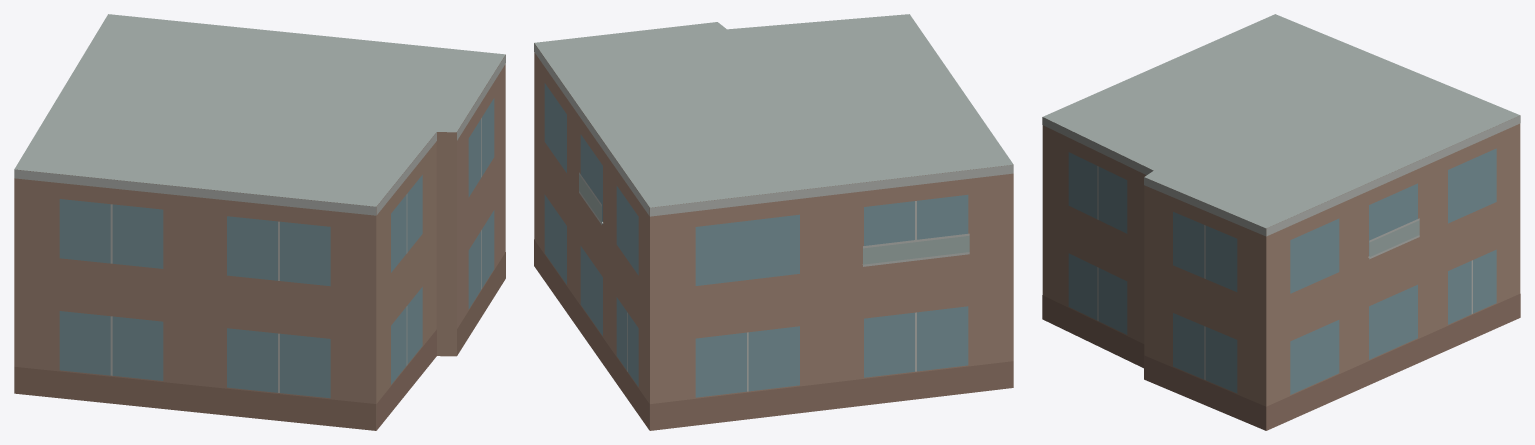
Rendered from survey-upis-32952241.glb.
3 renders of one model, left to right at view 1: azimuth 30°, elevation 25°; view 2: azimuth 150°, elevation 25°; view 3: azimuth 270°, elevation 25°, orthographic. The views are drawn at different scales.
Parts seen in each view (by area): view 1: survey-upis-32952241.tmp; view 2: survey-upis-32952241.tmp; view 3: survey-upis-32952241.tmp.
Boxes of the visible parts, bbox=[...] form: survey-upis-32952241.tmp: bbox=[14, 14, 505, 430]; survey-upis-32952241.tmp: bbox=[534, 14, 1013, 430]; survey-upis-32952241.tmp: bbox=[1042, 14, 1520, 430].
Size of the model in its own units: 13.87 by 6.1 by 13.06.
